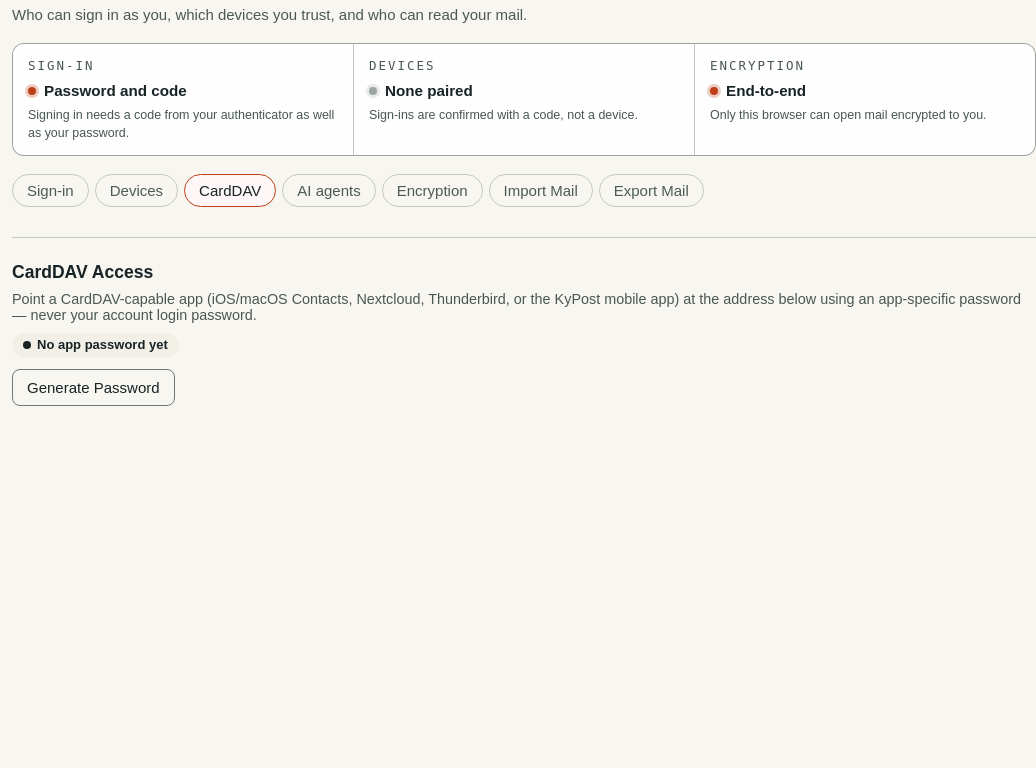
Test: CardDAV password blocks tab switches › refuses to leave the CardDAV tab while a generated password is showing
Click the button "Generate Password".
click(93, 388)  # box [12,369,175,406]
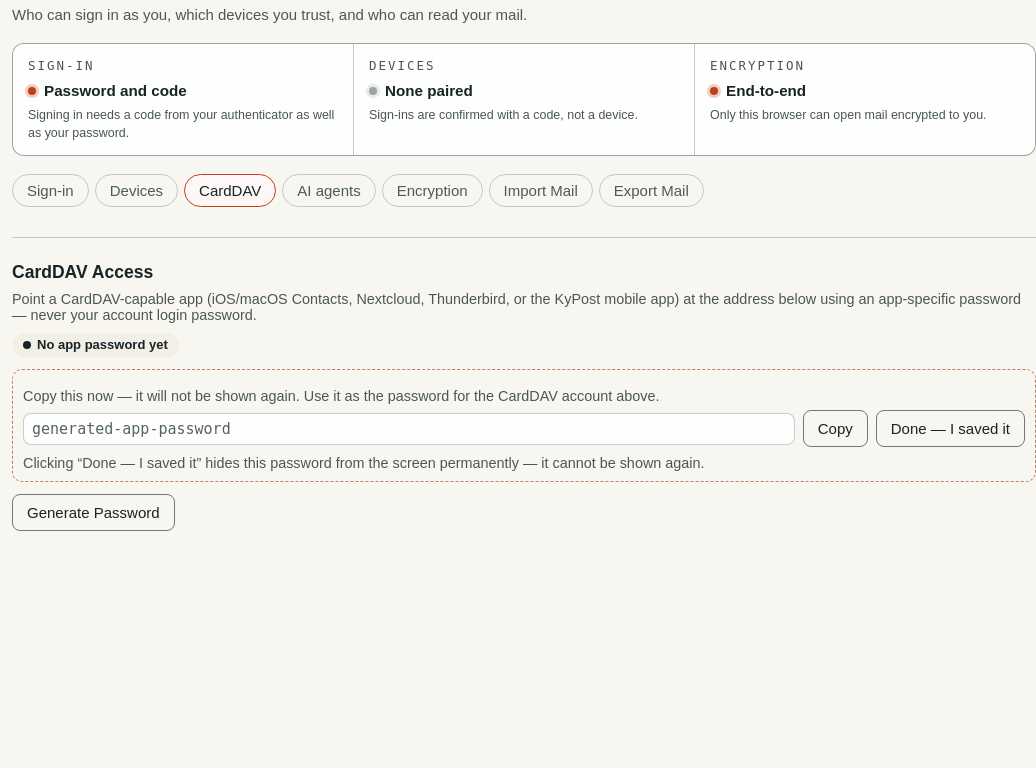
Check: the text "generated-app-password" is shown, box [23,413,795,445]
Click the tab "Encryption".
click(432, 191)  # box [382,174,483,207]
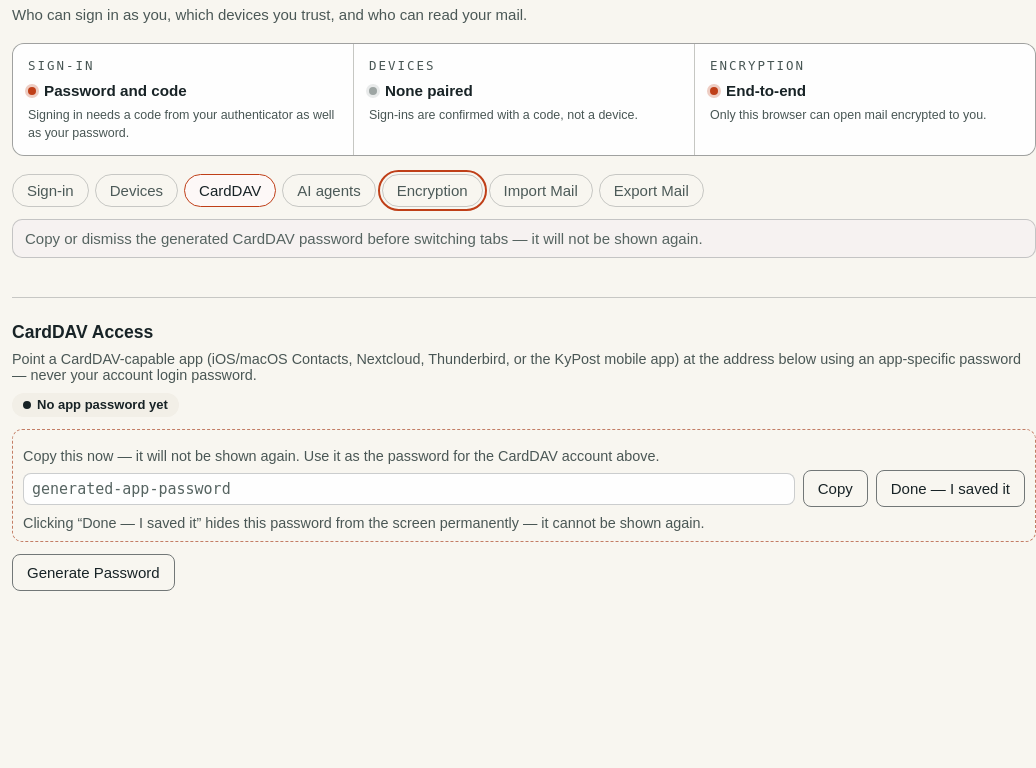
Check: the text "generated-app-password" is shown, box [23,473,795,505]
Check: the message shows "before switching tabs", box [25,230,703,247]
